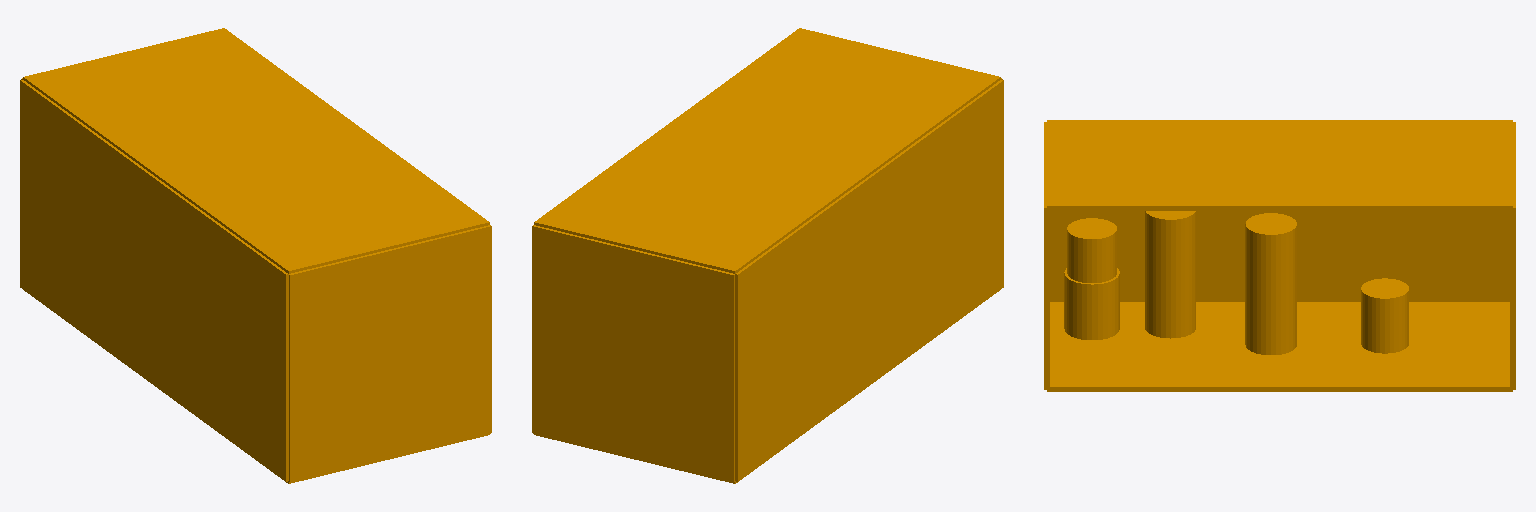
URDF robot description (syn_can_cabinet_1067):
<?xml version="1.0" ?>
<robot name="syn_can_cabinet_1067">
    <link concave="yes" name="base_link">
        <inertial>
            <origin rpy="0 0 0" xyz="0 0 0"/>
            <mass value="0.0"/>
            <inertia ixx="1e-08" ixy="0" ixz="0" iyy="1e-08" iyz="0" izz="1e-08"/>
        </inertial>
        <visual>
            <origin xyz="0 0 0" rpy="0 0 0" />
            <geometry>
                <mesh filename="syn_can_cabinet_1067.obj" scale="1.000000 1.000000 1.000000"/>
            </geometry>         
        </visual>

        <collision concave="yes">
            <origin xyz="0 0 0" rpy="0 0 0"/>
            <geometry>
                <mesh filename="syn_can_cabinet_1067.obj" scale="1.000000 1.000000 1.000000"/>
            </geometry>
        </collision>
    </link>
</robot>
    

--- What the picture shows (computed from the rendered views, not written in the file) ---
3 views of the same robot in one strip: view 1: azimuth 30°, elevation 25°; view 2: azimuth 150°, elevation 25°; view 3: azimuth 270°, elevation 25° (orthographic).
Robot: syn_can_cabinet_1067 — 1 links, 0 joints (none); root link base_link; default pose: all joints at 0.
Visible links, largest first — view 1: base_link; view 2: base_link; view 3: base_link.
Link boxes in pixels (x1,y1,x2,y2): base_link: (20, 28, 491, 483); base_link: (532, 28, 1003, 483); base_link: (1044, 120, 1515, 391).
Size in the robot's own frame: 0.193 by 0.4409 by 0.1925 metres.
Meshes: 1 distinct files referenced, 1 mesh visuals loaded (1 OBJ).
